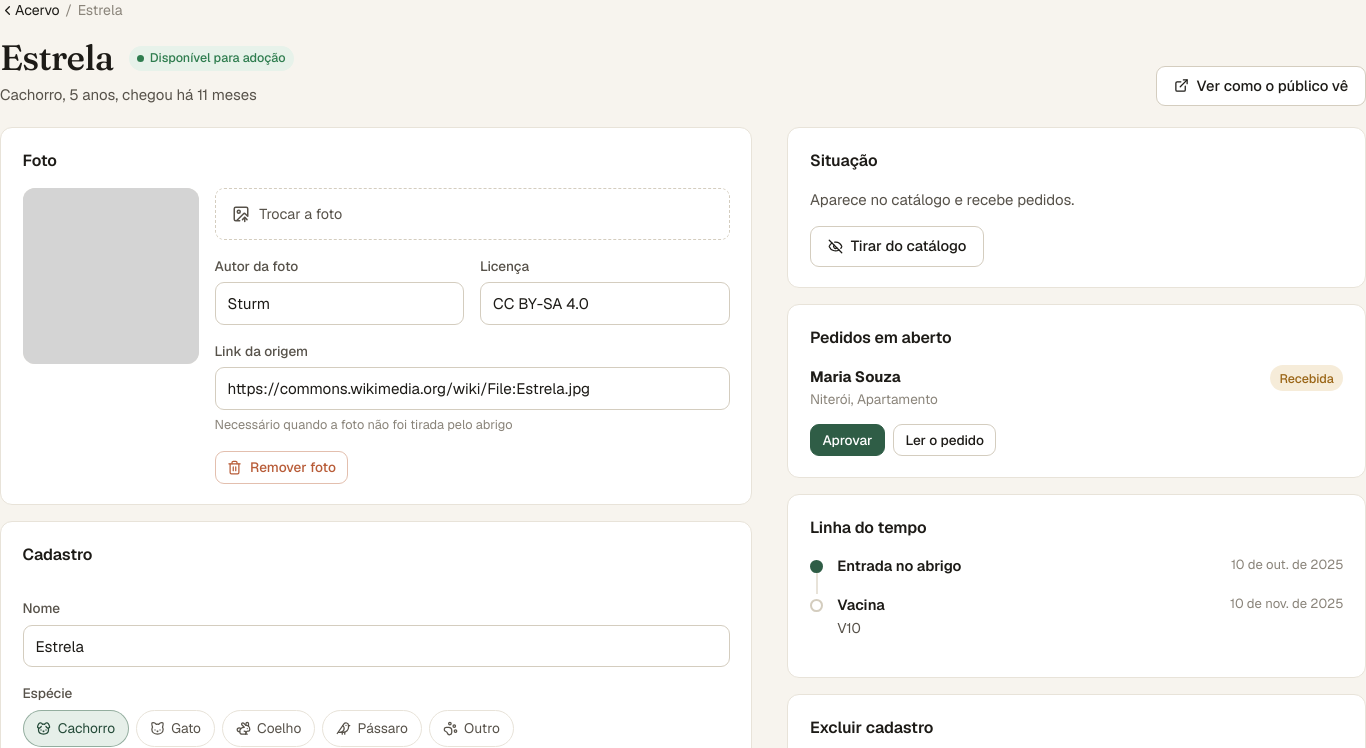
Test: gerenciar animal › aprova um pedido em aberto direto da ficha
Click the button "Aprovar" at (848, 440), box [810,424,885,456]
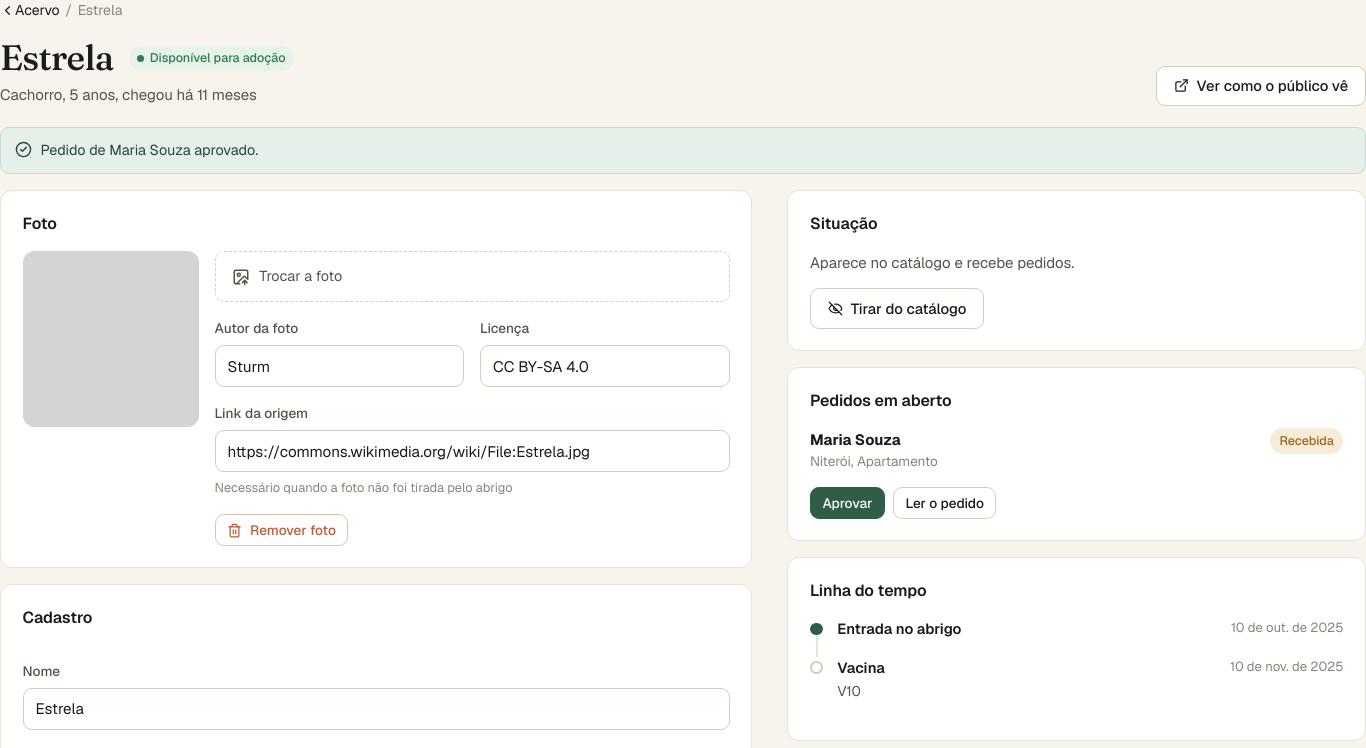
Check: the text "Pedido de Maria Souza aprovado." is shown, box [40,139,258,162]
